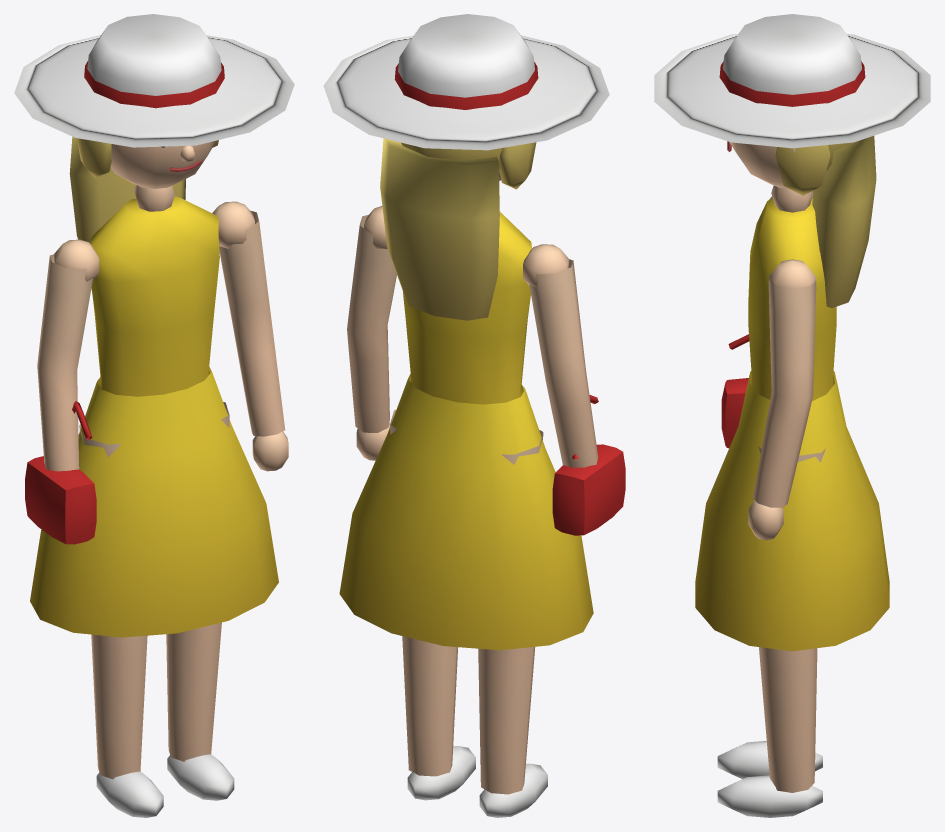
Rendered from Guest_Mother.obj.
3 renders of one model, left to right at view 1: azimuth 30°, elevation 25°; view 2: azimuth 150°, elevation 25°; view 3: azimuth 270°, elevation 25°, orthographic. The views are drawn at different scales.
Parts seen in each view (by area): view 1: Torso, Head, ArmL, ArmR, LegR, LegL, Prop; view 2: Torso, Head, ArmR, LegR, ArmL, LegL, Prop; view 3: Torso, Head, ArmL, LegL, LegR, Prop.
Boxes of the visible parts, x1,y1,x2,y2 form: Torso: (30, 185, 278, 637); Head: (14, 14, 294, 243); ArmL: (212, 201, 288, 471); ArmR: (37, 239, 99, 471); LegR: (79, 424, 163, 817); LegL: (166, 402, 234, 800); Prop: (25, 401, 96, 544); Torso: (339, 211, 593, 650); Head: (323, 14, 609, 320); ArmR: (523, 244, 598, 467); LegR: (478, 430, 547, 817); ArmL: (347, 206, 396, 460); LegL: (390, 410, 475, 800); Prop: (552, 395, 625, 535); Torso: (695, 185, 889, 651); Head: (654, 14, 930, 307); ArmL: (748, 259, 816, 540); LegL: (717, 446, 825, 817); LegR: (717, 741, 822, 779); Prop: (721, 334, 749, 448).
Bounding box in the file's own units: 0.6131 × 1.79 × 0.588.
1 material, 1 textured.
